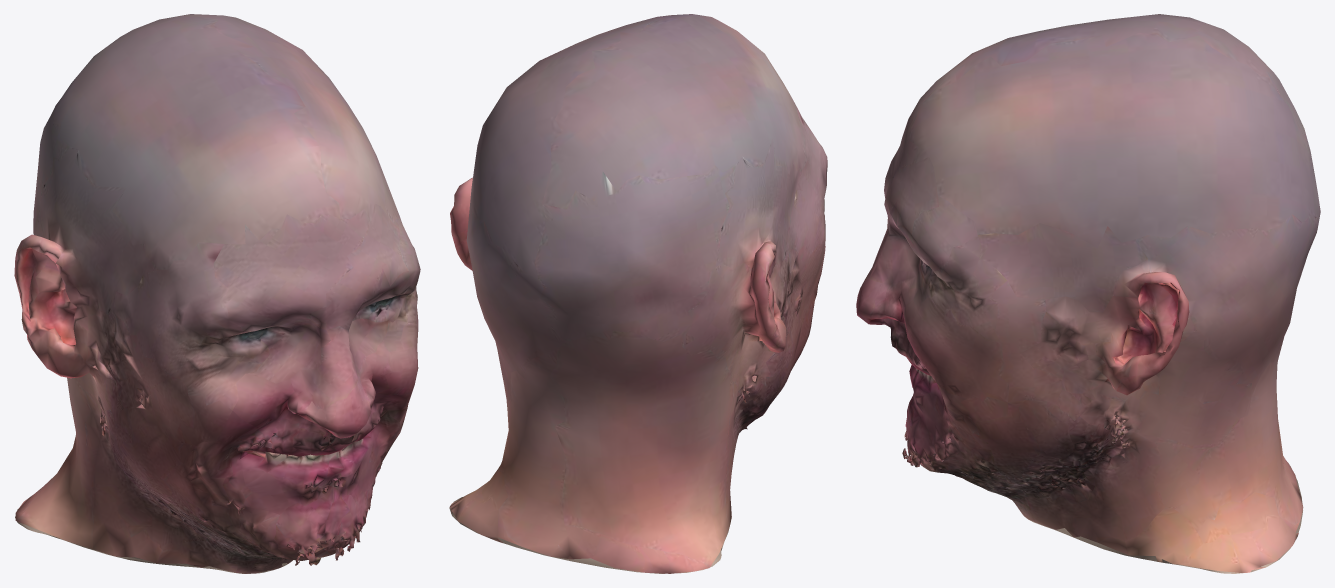
3 renders of one model, left to right at view 1: azimuth 30°, elevation 25°; view 2: azimuth 150°, elevation 25°; view 3: azimuth 270°, elevation 25°, orthographic. The views are drawn at different scales.
Parts seen in each view (by area): view 1: MattHead, NeckCap; view 2: MattHead, NeckCap; view 3: MattHead, NeckCap.
Part boxes in pixels (<box>): MattHead: <box>14,14,420,573</box>; NeckCap: <box>15,509,291,573</box>; MattHead: <box>449,14,827,573</box>; NeckCap: <box>449,497,728,573</box>; MattHead: <box>856,14,1320,572</box>; NeckCap: <box>1023,466,1302,573</box>.
Bounding box in the file's own units: 0.0733 × 0.1 × 0.0878.
2 materials, 1 textured.
